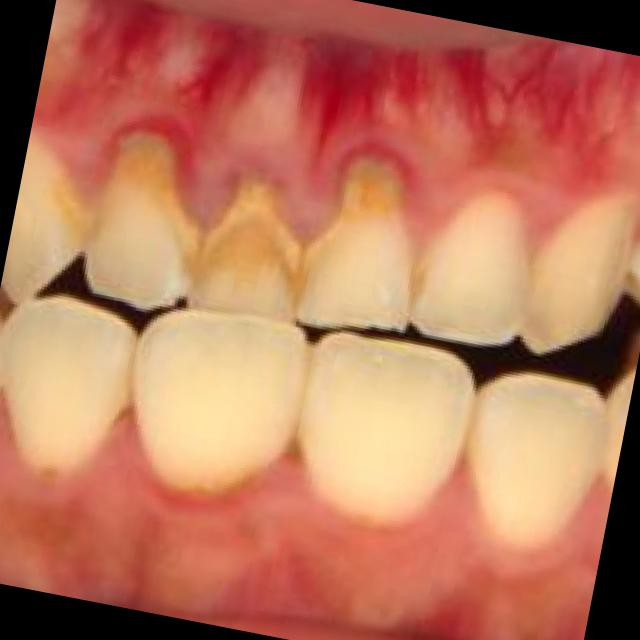karies: (182, 175, 318, 301), (104, 132, 176, 217), (333, 153, 406, 235), (49, 182, 112, 246), (274, 404, 317, 472), (105, 371, 144, 432)
